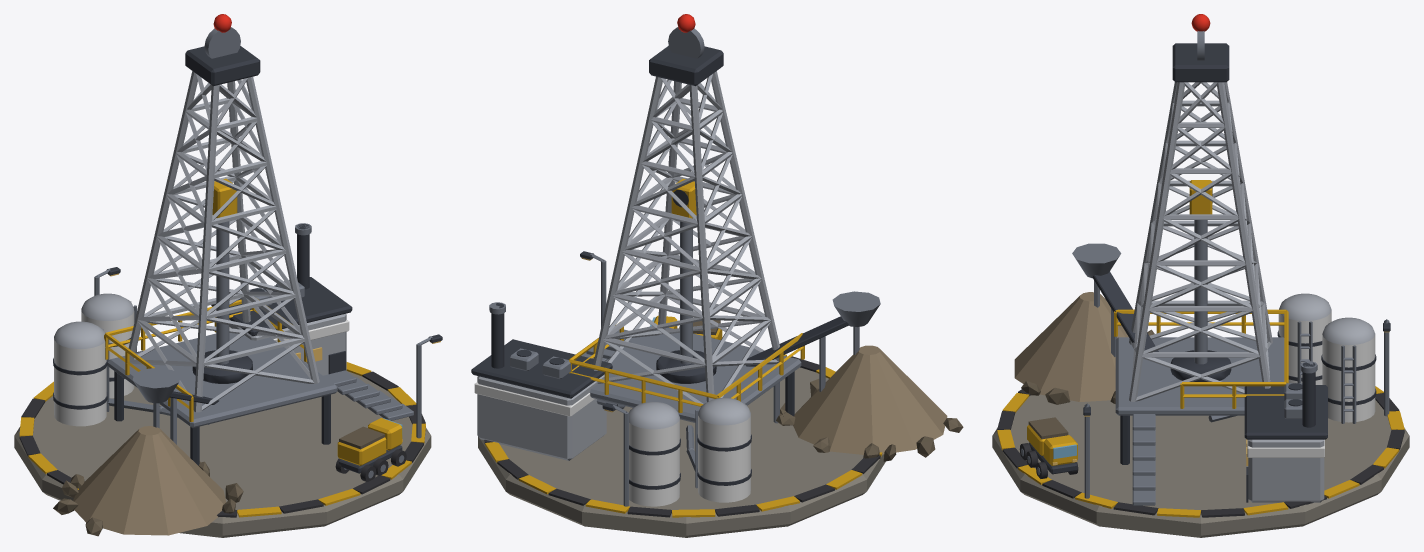
File: mine_rig.fbx
The picture shows the model from 3 angles, left to right: view 1: azimuth 30°, elevation 25°; view 2: azimuth 150°, elevation 25°; view 3: azimuth 270°, elevation 25°; orthographic projection.
Visible parts, largest first — view 1: mine_rig, mine_rig__travel_block; view 2: mine_rig, mine_rig__travel_block; view 3: mine_rig, mine_rig__travel_block.
Part boxes in pixels (left/top/right/bottom): mine_rig: left=14, top=14, right=442, bottom=537; mine_rig__travel_block: left=212, top=178, right=237, bottom=218; mine_rig: left=471, top=14, right=963, bottom=537; mine_rig__travel_block: left=671, top=178, right=696, bottom=218; mine_rig: left=992, top=14, right=1409, bottom=537; mine_rig__travel_block: left=1189, top=180, right=1212, bottom=214.
Size of the model in its own units: 2.36 by 2.54 by 2.2.
